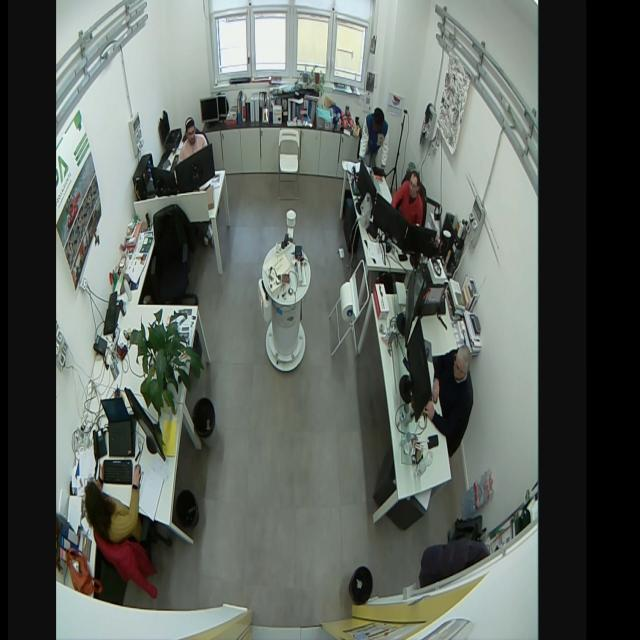Persona: (83, 458, 143, 552), (423, 340, 474, 442), (357, 103, 391, 172), (390, 170, 425, 228), (174, 114, 211, 164)
